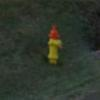a fire hydrant: (48, 25, 62, 65)
